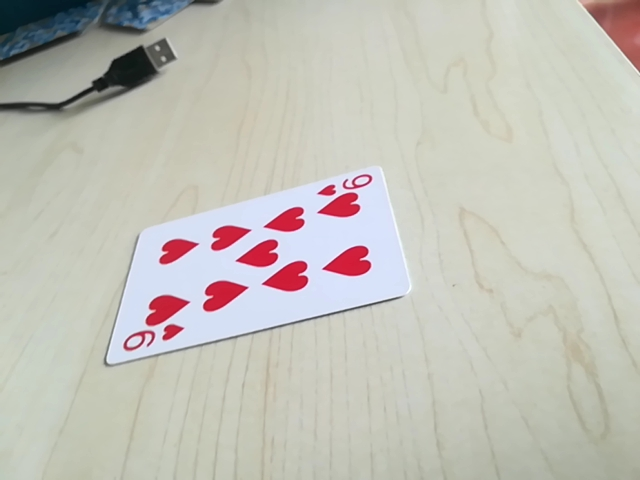hx 9: (119, 324, 186, 355), (317, 172, 379, 199)
